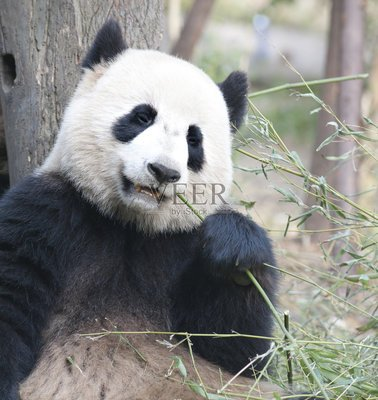panda: (1, 7, 289, 400)
